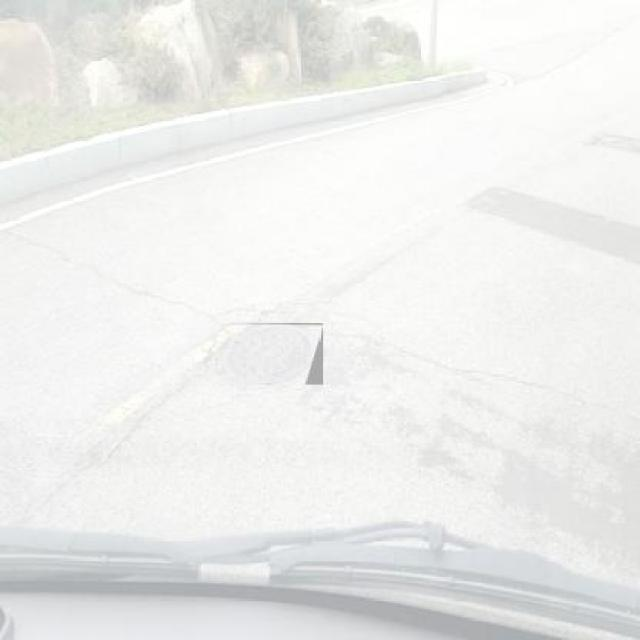Manhole: (219, 323, 324, 385)
